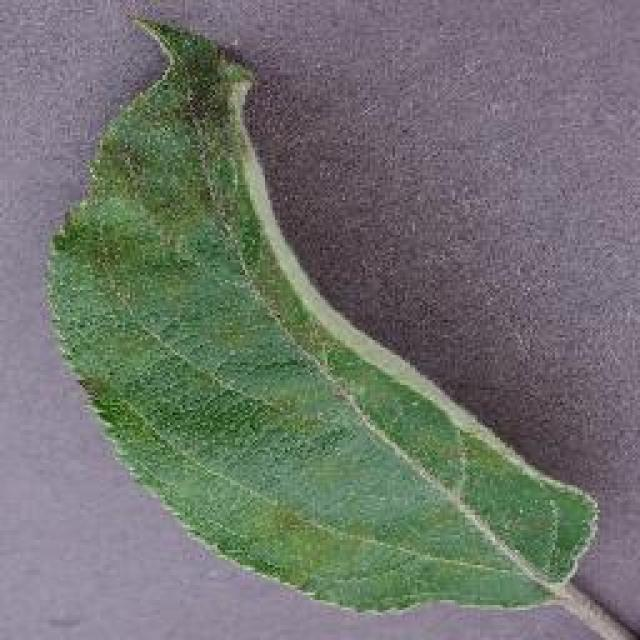apple scab disease: (40, 10, 602, 620)
